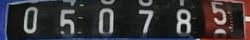digits: (97, 8, 115, 36), (175, 8, 193, 36), (60, 8, 76, 36), (210, 1, 228, 25), (22, 6, 38, 33), (138, 8, 153, 32)
